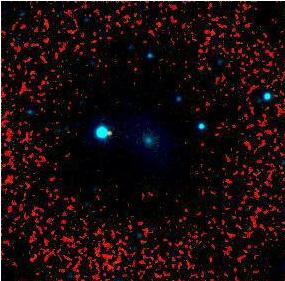star: (94, 119, 124, 149)
